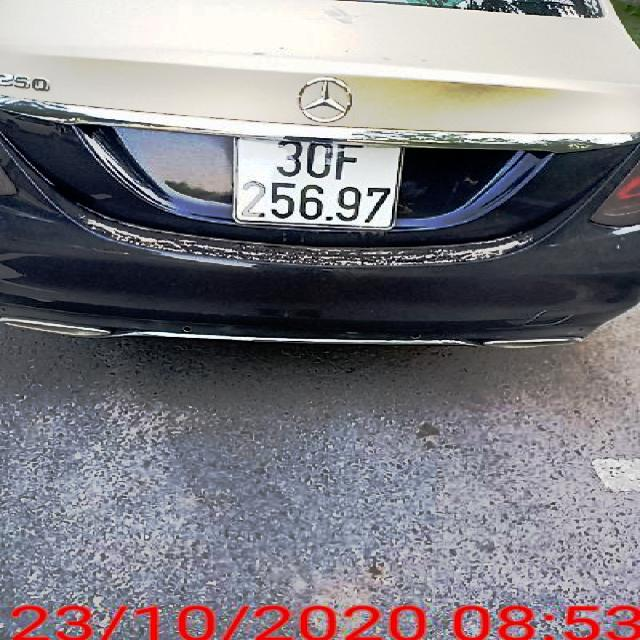license_plate: (239, 138, 408, 236)
